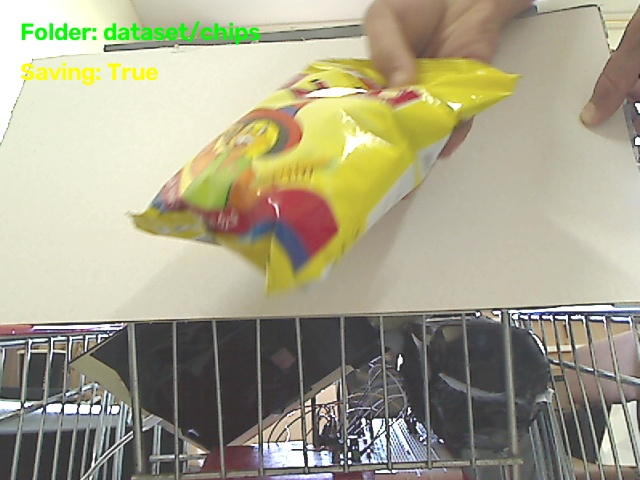chips: (133, 59, 517, 291)
